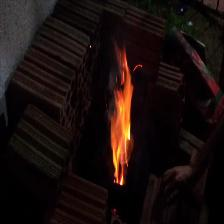fire: (110, 47, 136, 186)
